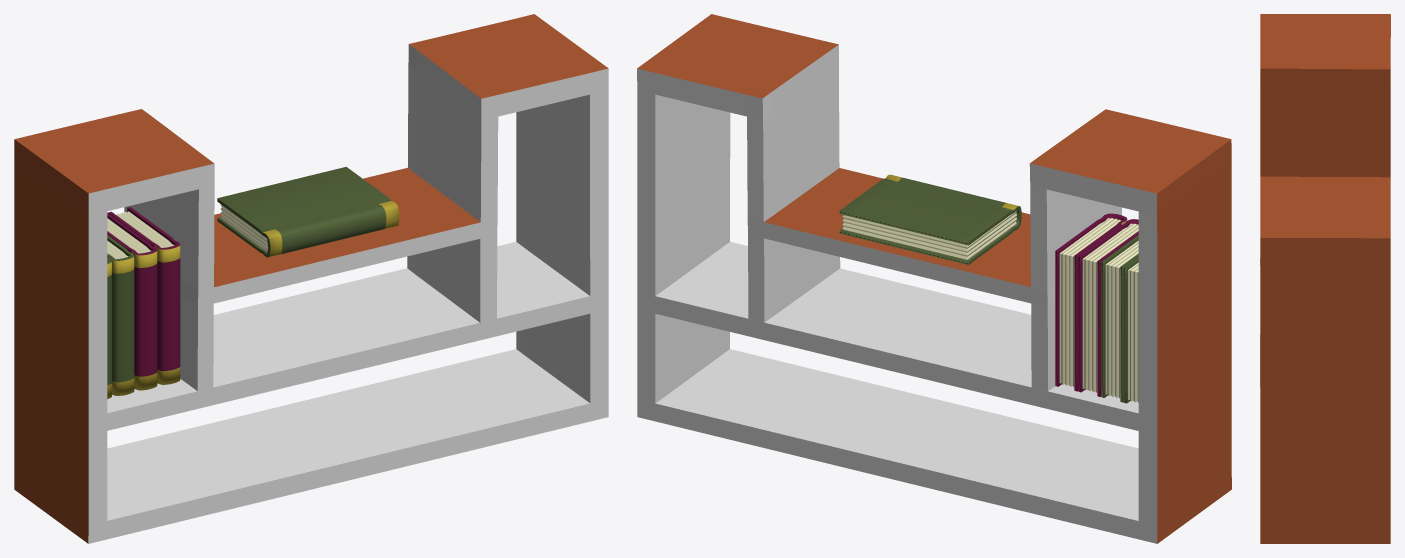
The model's file is shelves_tier8.fbx.
3 renders of one model, left to right at view 1: azimuth 30°, elevation 25°; view 2: azimuth 150°, elevation 25°; view 3: azimuth 270°, elevation 25°, orthographic. The views are drawn at different scales.
Parts seen in each view (by area): view 1: Cube.001, Cube.006, Cube.005, Cube.004, Cube.002, Cube.009; view 2: Cube.001, Cube.006, Cube.005, Cube.004, Cube.002, Cube.009; view 3: Cube.001.
Boxes of the visible parts, x1,y1,x2,y2 form: Cube.001: (14,14,608,543); Cube.006: (217,166,399,257); Cube.005: (108,207,180,384); Cube.004: (107,212,157,390); Cube.002: (107,235,134,395); Cube.009: (107,257,111,399); Cube.001: (637,14,1231,543); Cube.006: (839,174,1021,264); Cube.005: (1055,213,1127,391); Cube.004: (1078,219,1138,396); Cube.002: (1101,235,1138,402); Cube.009: (1123,257,1138,403); Cube.001: (1260,14,1390,543).
Bounding box in the file's own units: 207 × 133 × 51.22.
